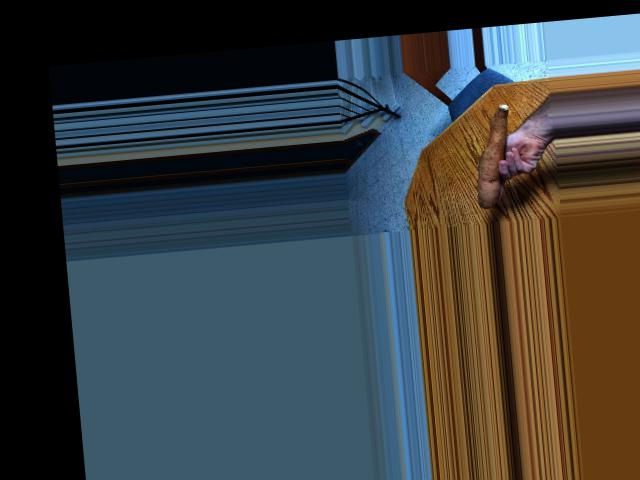sweet_potato: (466, 102, 521, 208)
